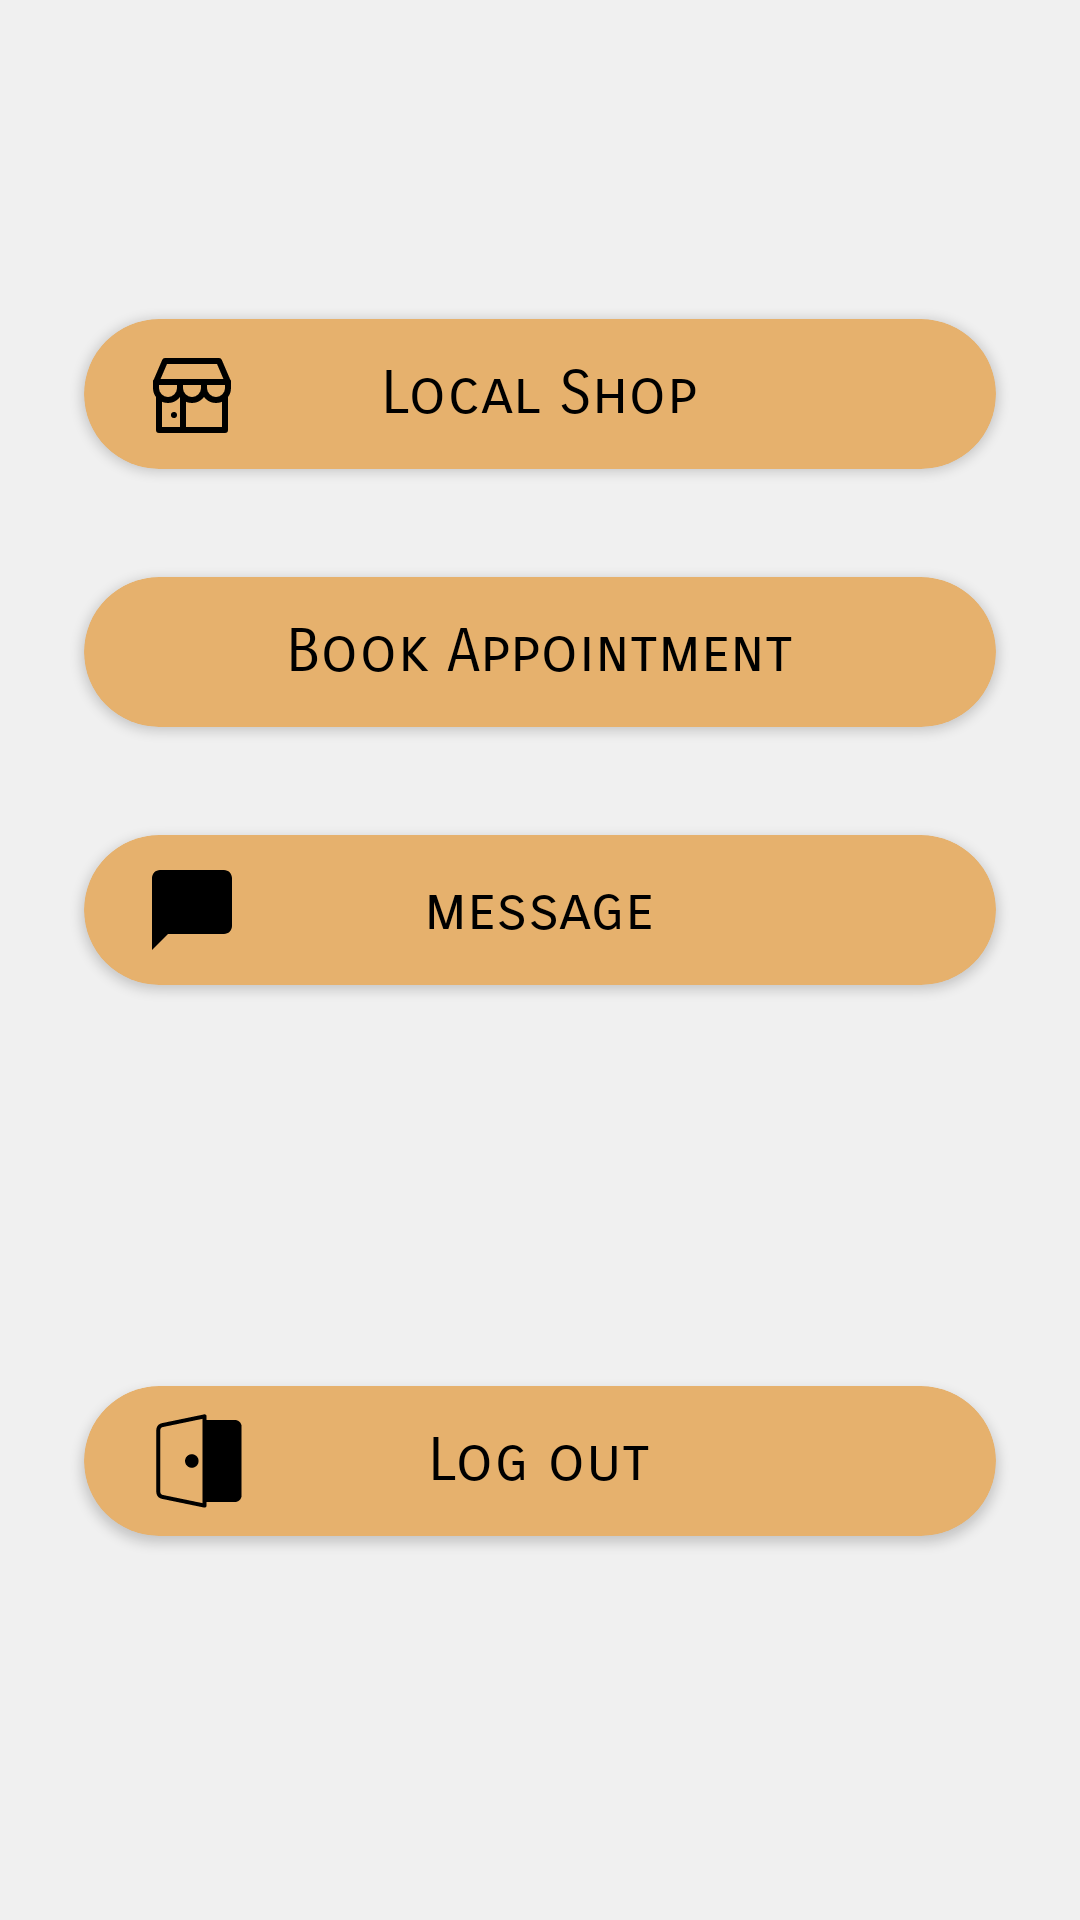

Named icons in this screenshot (1080 × 1920) and their centers, point (x, y):
chat bubble: point (192, 910)
